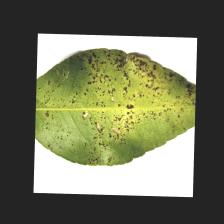canker: (91, 56, 166, 103)
